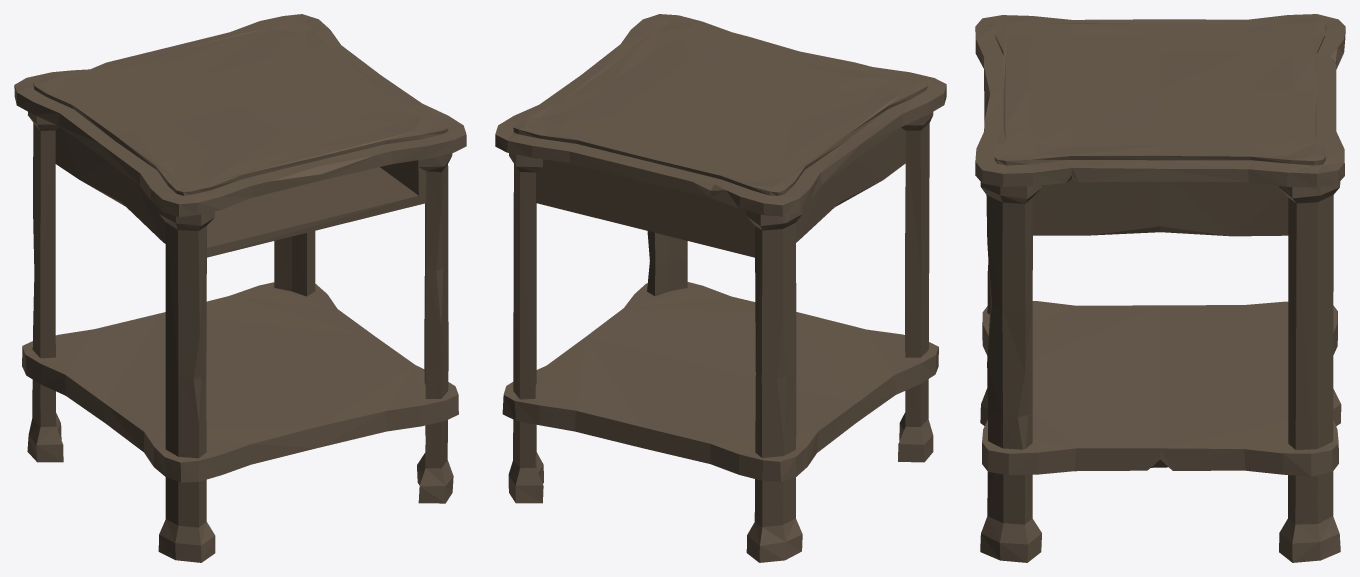
File: SFHW_Table_004.fbx
3 renders of one model, left to right at view 1: azimuth 30°, elevation 25°; view 2: azimuth 150°, elevation 25°; view 3: azimuth 270°, elevation 25°, orthographic. The views are drawn at different scales.
Visible parts, largest first — view 1: SFHW_Table_004; view 2: SFHW_Table_004; view 3: SFHW_Table_004.
Boxes of the visible parts, left/top/right/bottom form: SFHW_Table_004: left=14, top=14, right=466, bottom=562; SFHW_Table_004: left=495, top=14, right=946, bottom=562; SFHW_Table_004: left=975, top=14, right=1345, bottom=562.
Bounding box in the file's own units: 66.53 × 77.51 × 65.32.
